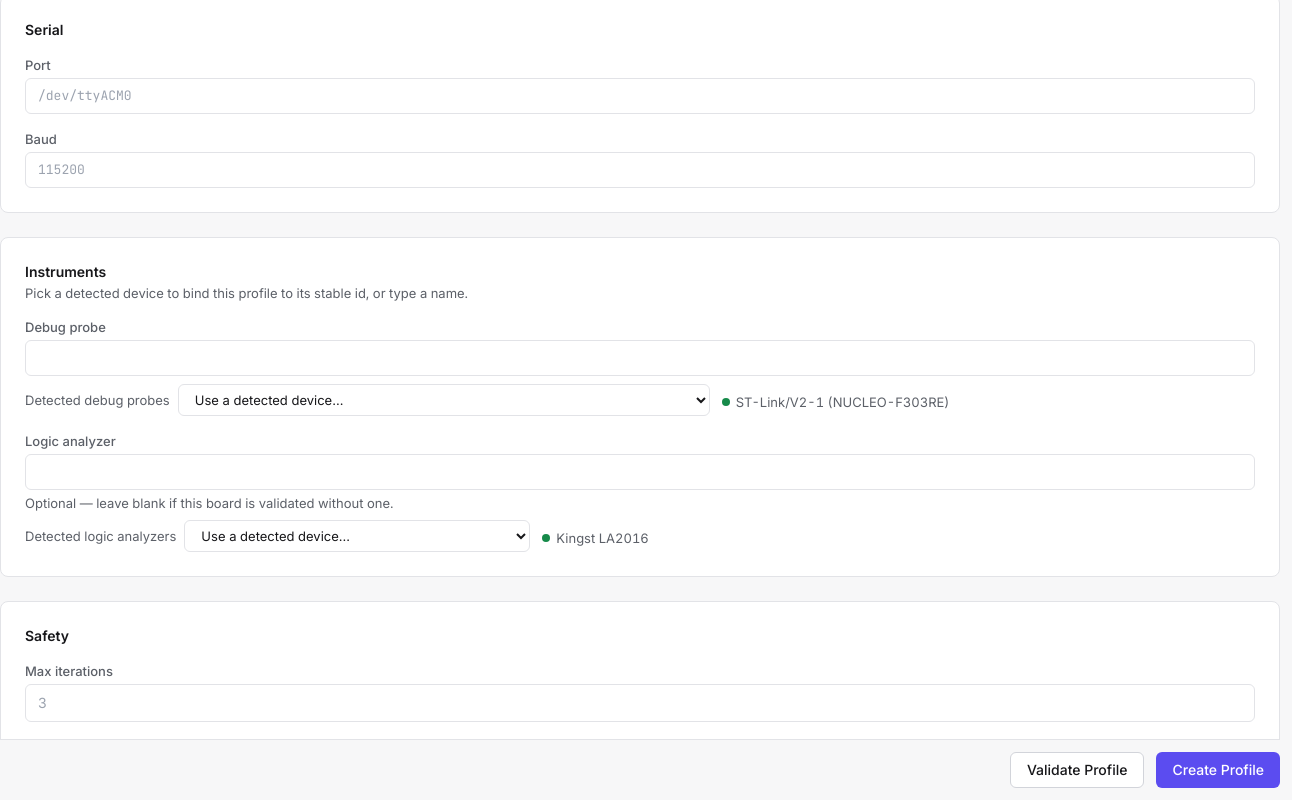
Test: detected-device picker › writes the device’s stable id into the free-text field
The width and height of the screenshot is (1292, 800).
(page scrolled)
Select "ST-Link/V2-1 (NUCLEO-F303RE) — pyocd:stlink:066EFF383733554157254923" in the dropdown labelled "Detected debug probes": (444, 400) [178,384,710,416]
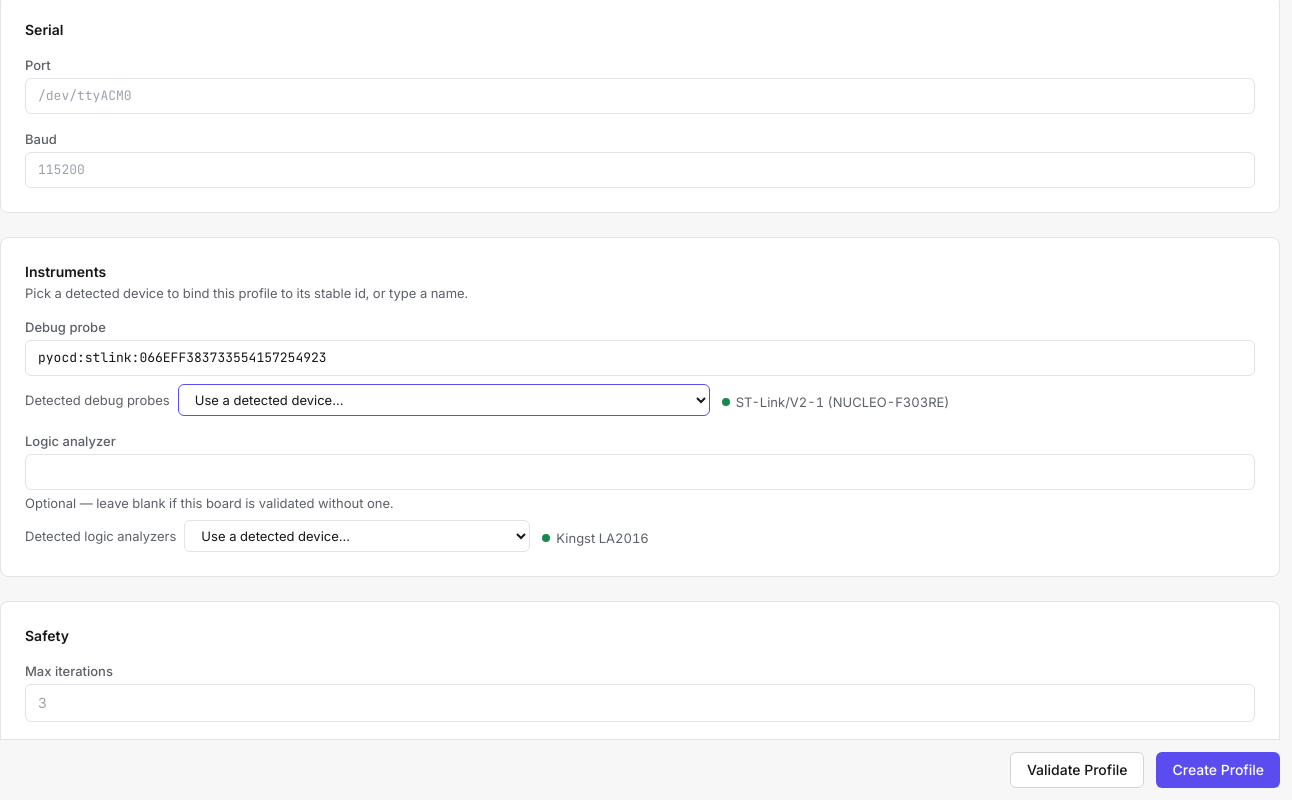
Now the field labelled "Debug probe" holds "pyocd:stlink:066EFF383733554157254923", box [25,340,1255,376]
